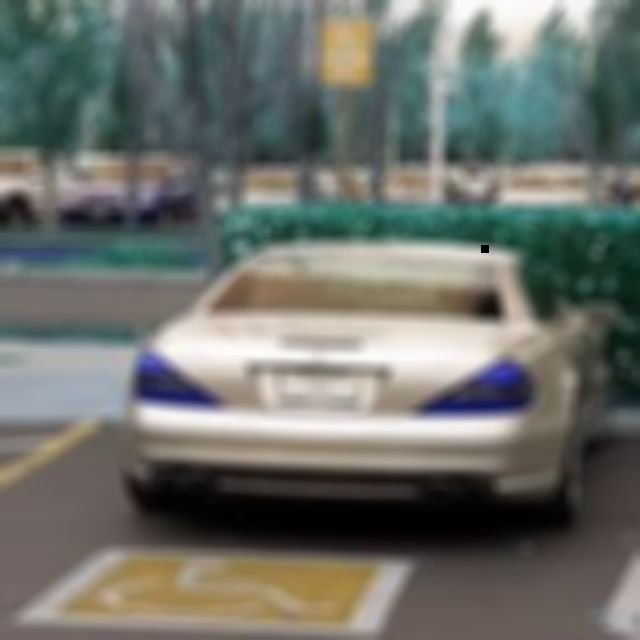ISA: (101, 557, 341, 619), (328, 21, 362, 51)
